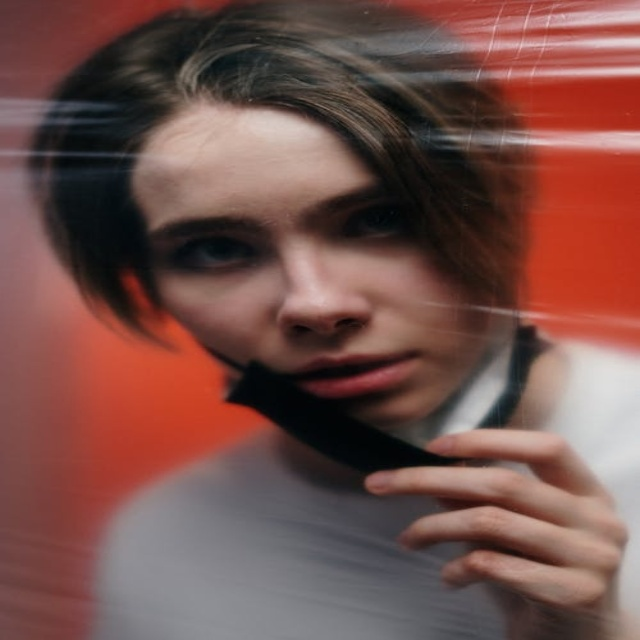Sin_gafas: (150, 177, 421, 279)
Sin_guantes: (366, 422, 630, 628)
Sin_mascara: (273, 349, 431, 411)
